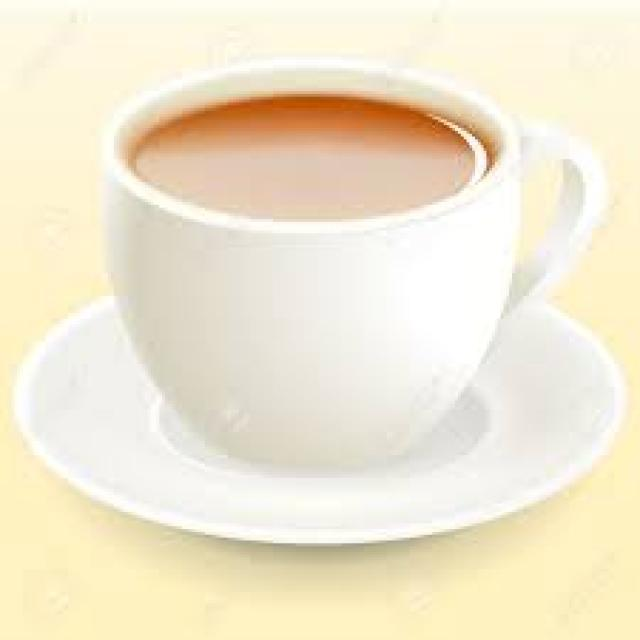taza: (79, 47, 612, 479)
